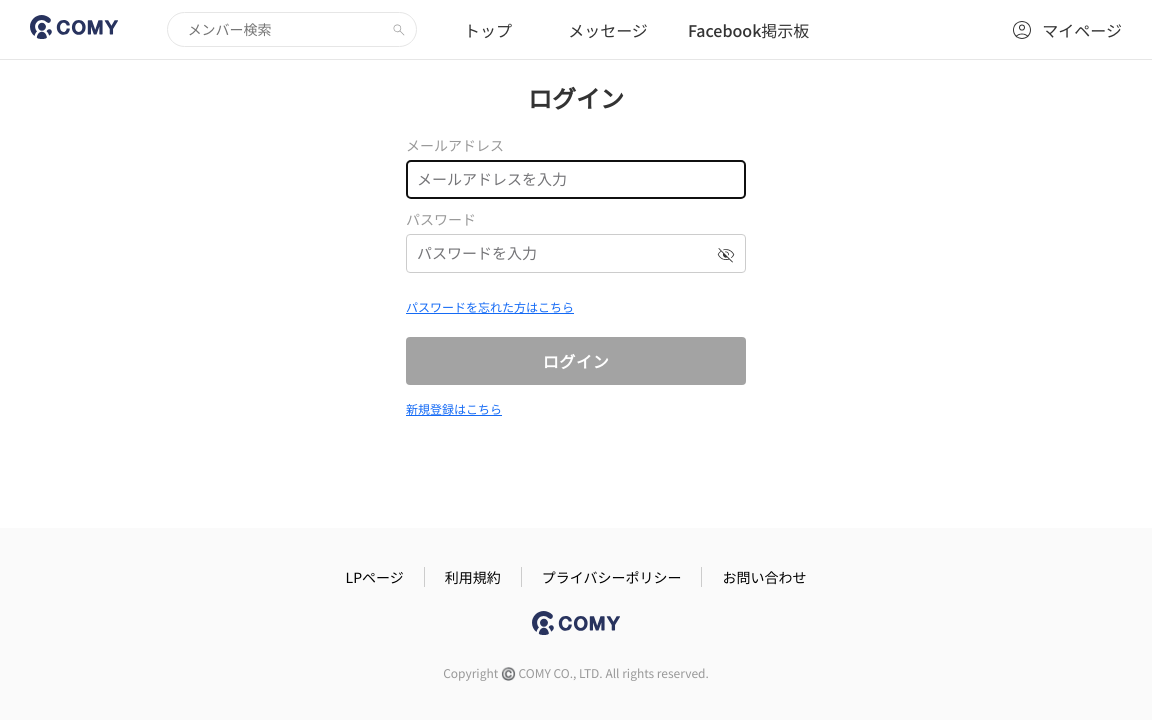
Test case: Check Page Elements: › Verify that the password toggle (icon) exists and works to show/hide the password.
In the password field labelled "パスワード": (576, 254) [406,234,746,273], type "Hakamaldeen17"
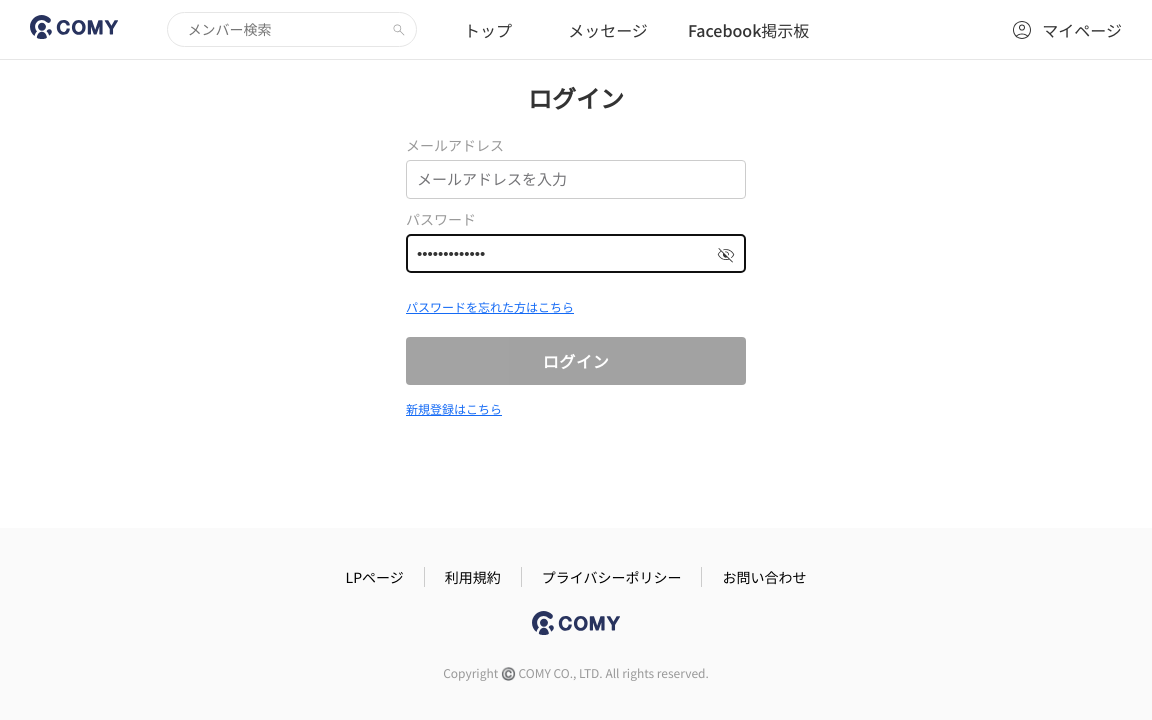
Click the picture named "Toggle visibility": click(726, 255) [716,245,736,265]
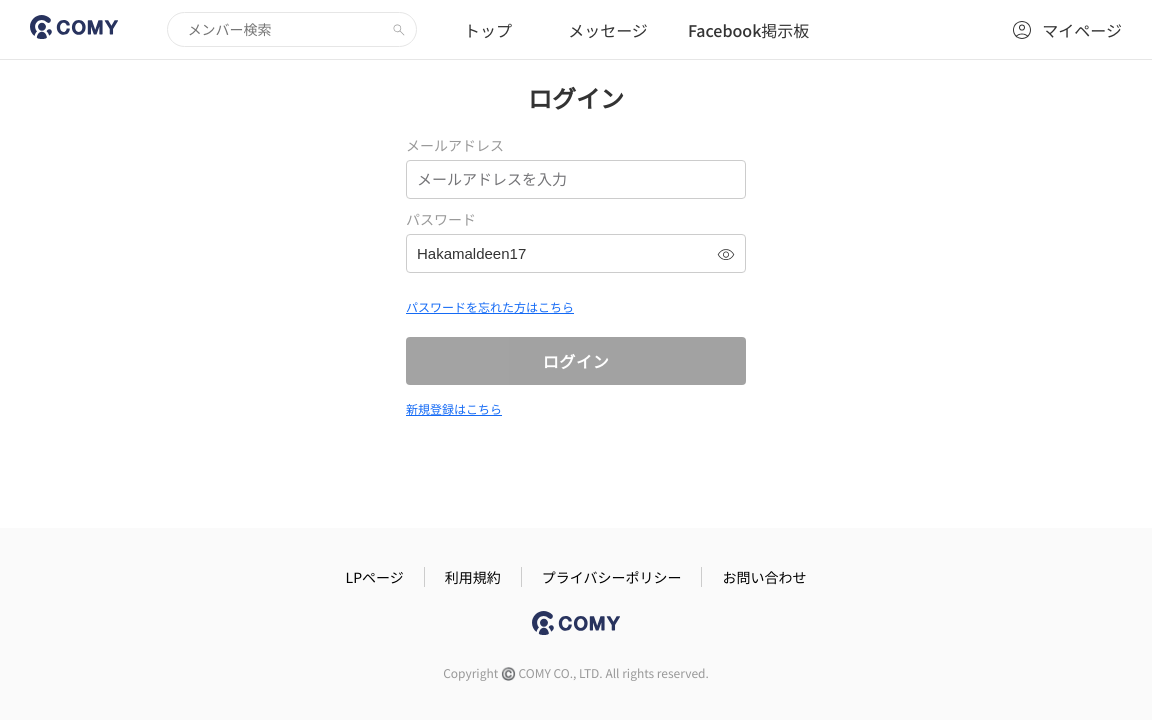
Now the field labelled "パスワード" shows its text, box [406,234,746,273]
Click the picture named "Toggle visibility": click(726, 255) [716,245,736,265]
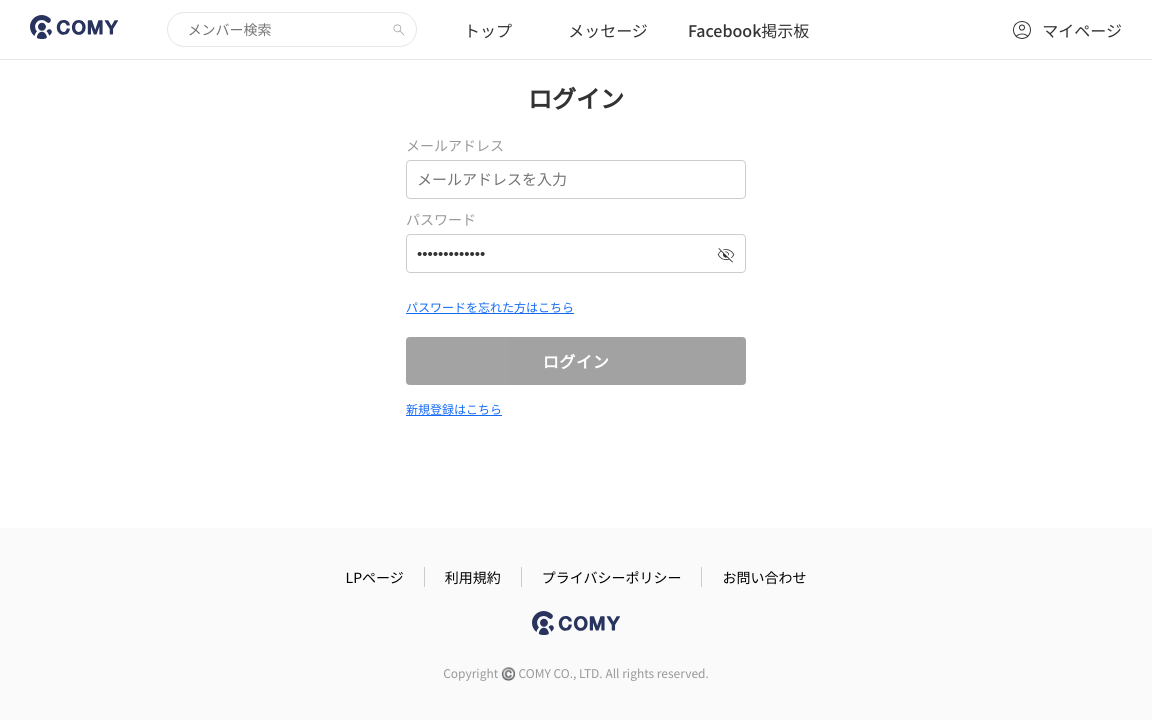
Now the password field labelled "パスワード" hides its text, box [406,234,746,273]
